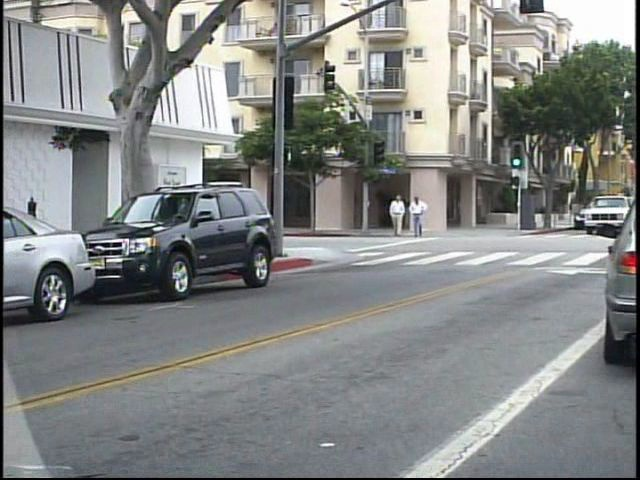person: (405, 192, 428, 242), (383, 191, 403, 243)
